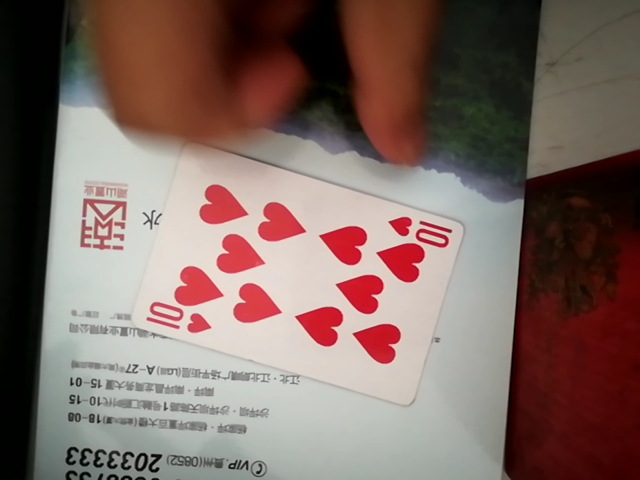hx 10: (138, 142, 460, 401)
